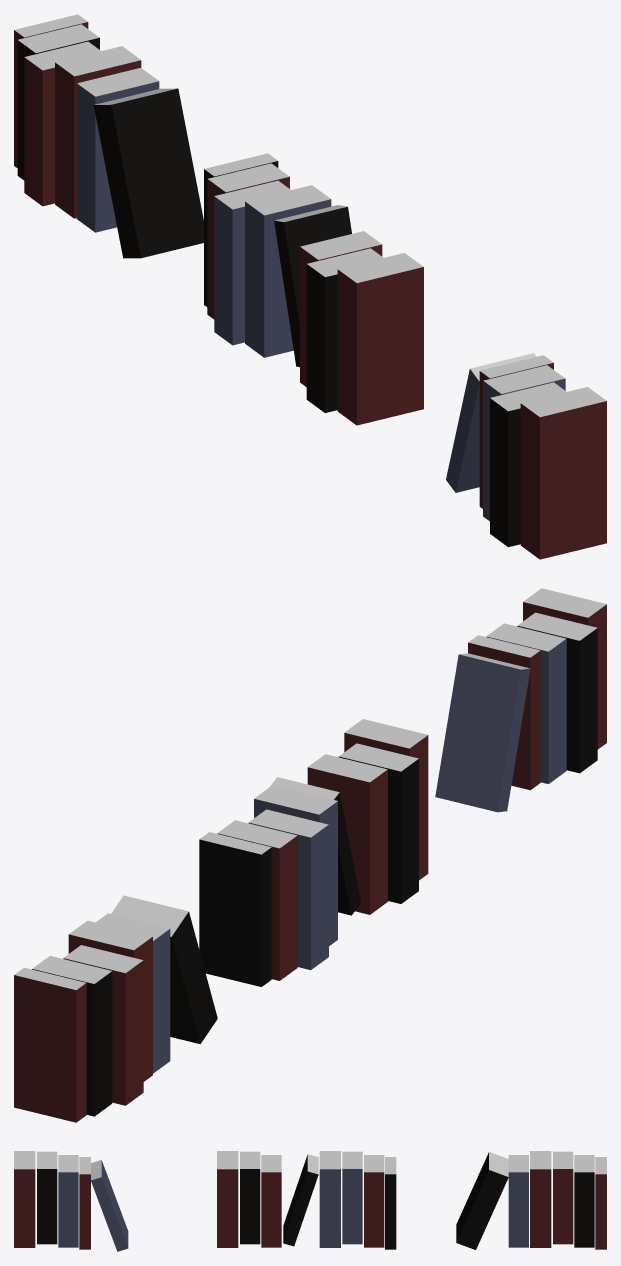
The model's file is book3.obj.
3 views of the same model, one above another, from view 1: azimuth 30°, elevation 25°; view 2: azimuth 150°, elevation 25°; view 3: azimuth 270°, elevation 25° (orthographic). The views are drawn at different scales.
Visible parts, largest first — view 1: Cube.032; view 2: Cube.032; view 3: Cube.032.
Part boxes in pixels (bbox=[...]): Cube.032: bbox=[14, 14, 606, 559]; Cube.032: bbox=[14, 588, 606, 1122]; Cube.032: bbox=[14, 1151, 606, 1251].
Size of the model in its own units: 1.12 by 1.87 by 12.39.
